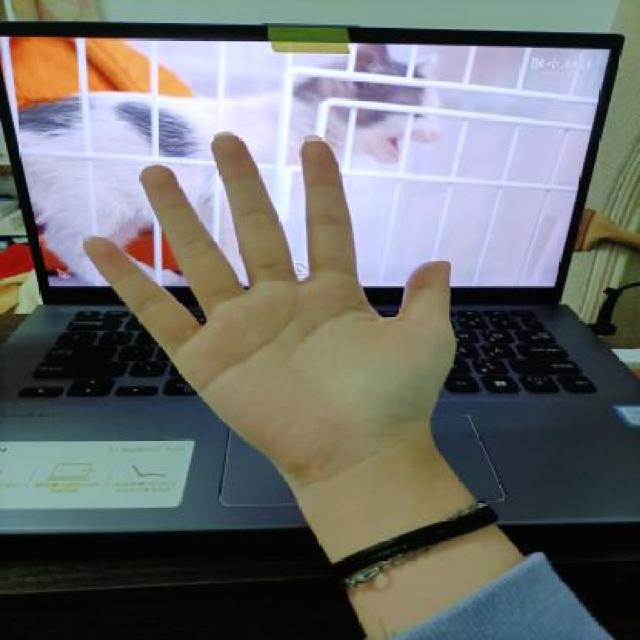no_glove: (66, 122, 469, 486)
